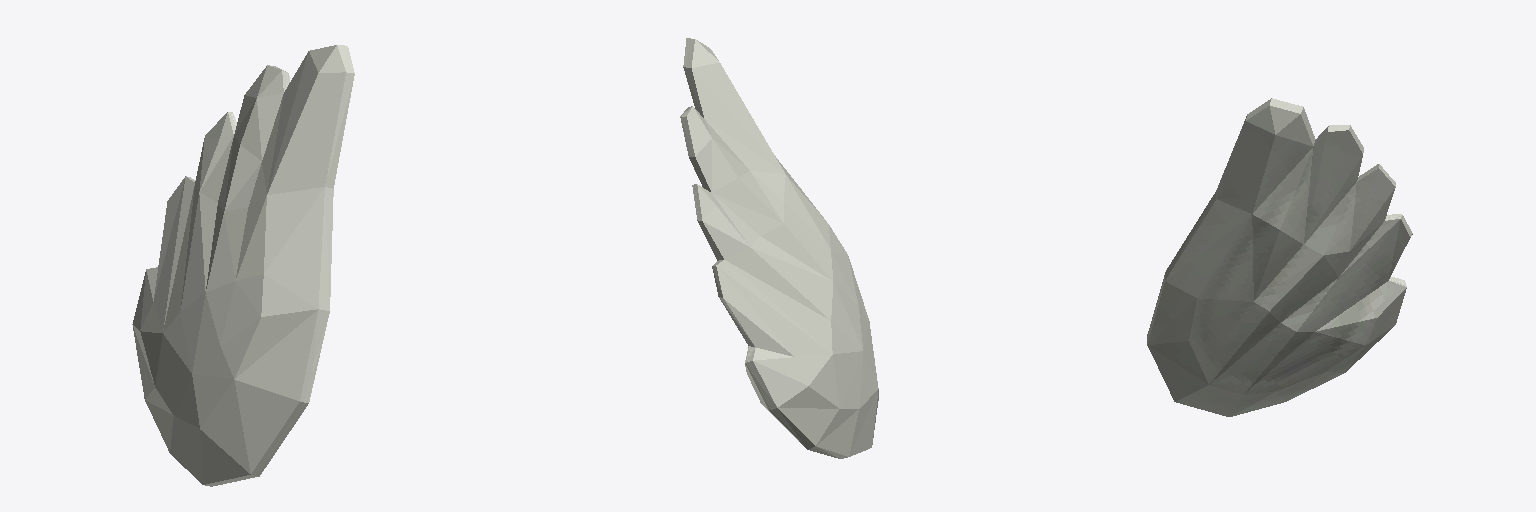
The picture shows the model from 3 angles: view 1: azimuth 30°, elevation 25°; view 2: azimuth 150°, elevation 25°; view 3: azimuth 270°, elevation 25°; orthographic projection.
Visible parts, largest first — view 1: polySurface31 polySurface26 polySurface20 polySurface13 polySurf; view 2: polySurface31 polySurface26 polySurface20 polySurface13 polySurf; view 3: polySurface31 polySurface26 polySurface20 polySurface13 polySurf.
Part boxes in pixels (left/top/right/bottom): polySurface31 polySurface26 polySurface20 polySurface13 polySurf: left=132, top=45, right=354, bottom=486; polySurface31 polySurface26 polySurface20 polySurface13 polySurf: left=680, top=38, right=878, bottom=458; polySurface31 polySurface26 polySurface20 polySurface13 polySurf: left=1147, top=98, right=1412, bottom=416.
Size of the model in its own units: 0.1504 by 0.3234 by 0.1996.
1 materials, 1 textured.